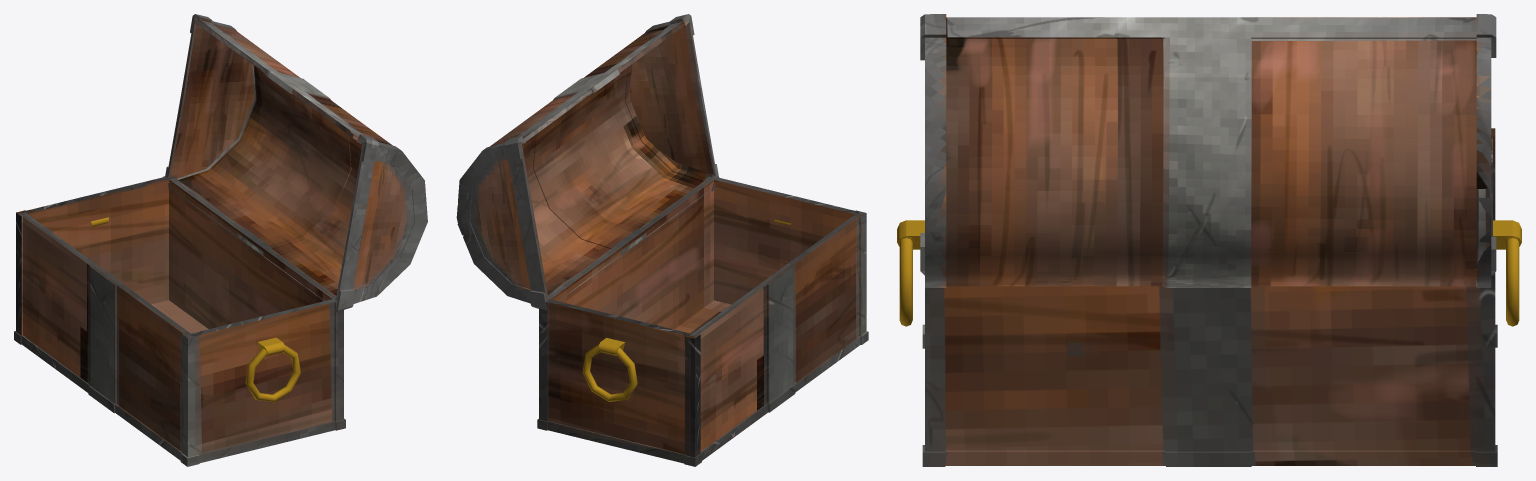
Rendered from coffre_ouvert.fbx.
The picture shows the model from 3 angles, left to right: view 1: azimuth 30°, elevation 25°; view 2: azimuth 150°, elevation 25°; view 3: azimuth 270°, elevation 25°; orthographic projection. The views are drawn at different scales.
Parts seen in each view (by area): view 1: Box001, Cylinder001, Torus001; view 2: Box001, Cylinder001, Torus001; view 3: Cylinder001, Box001, Torus001.
Boxes of the visible parts, <box> form: Box001: <box>14,176,345,466</box>; Cylinder001: <box>165,14,427,312</box>; Torus001: <box>91,217,300,402</box>; Box001: <box>537,175,868,466</box>; Cylinder001: <box>456,14,718,310</box>; Torus001: <box>582,219,790,401</box>; Cylinder001: <box>920,14,1496,287</box>; Box001: <box>922,128,1497,466</box>; Torus001: <box>897,220,1521,326</box>.
Size of the model in its own units: 61.27 by 68.88 by 82.96.
